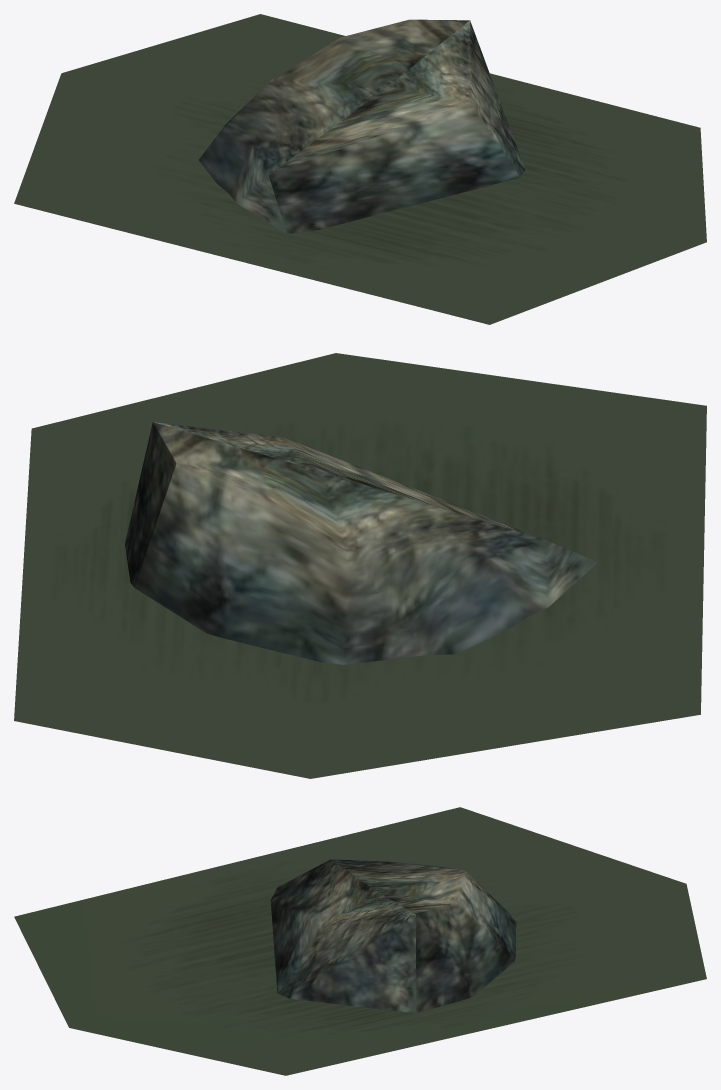
File: pir_m_are_isl_rockSmall_worldmap.fbx
3 views of the same model, one above another, from view 1: azimuth 30°, elevation 25°; view 2: azimuth 150°, elevation 25°; view 3: azimuth 270°, elevation 25° (orthographic). The views are drawn at different scales.
Visible parts, largest first — view 1: sketchmark, top_mesh; view 2: sketchmark, top_mesh; view 3: sketchmark, top_mesh.
Part boxes in pixels (x1,y1,x2,y2): sketchmark: [14, 14, 706, 324]; top_mesh: [199, 19, 525, 233]; sketchmark: [14, 353, 706, 778]; top_mesh: [125, 422, 597, 664]; sketchmark: [14, 807, 706, 1075]; top_mesh: [270, 859, 516, 1013].
Size of the model in its own units: 3.7 by 0.7128 by 4.03.
2 materials, 2 textured.
